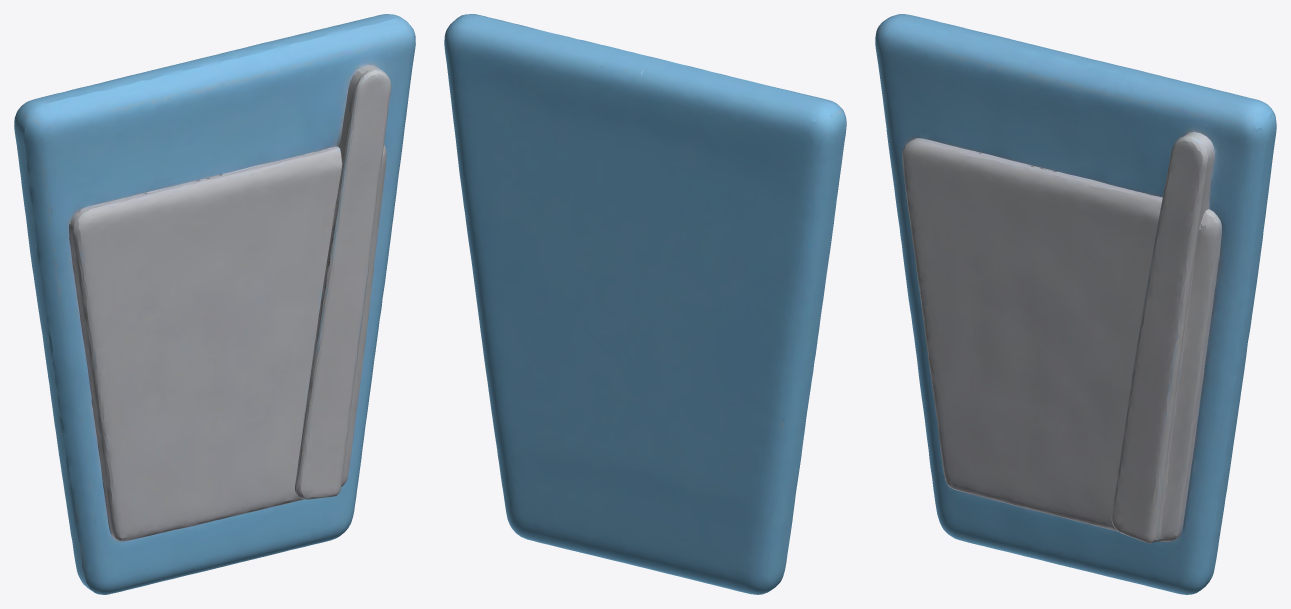
Rendered from soy-milk.glb.
The picture shows the model from 3 angles, left to right: view 1: azimuth 30°, elevation 25°; view 2: azimuth 150°, elevation 25°; view 3: azimuth 330°, elevation 25°; orthographic projection.
Parts seen in each view (by area): view 1: Mesh; view 2: Mesh; view 3: Mesh.
Boxes of the visible parts, bbox=[...] form: Mesh: bbox=[14, 14, 415, 594]; Mesh: bbox=[444, 14, 846, 594]; Mesh: bbox=[875, 14, 1276, 594].
Size of the model in its own units: 0.8103 by 1 by 0.1436.
Materials: 1 (1 with a texture image).
